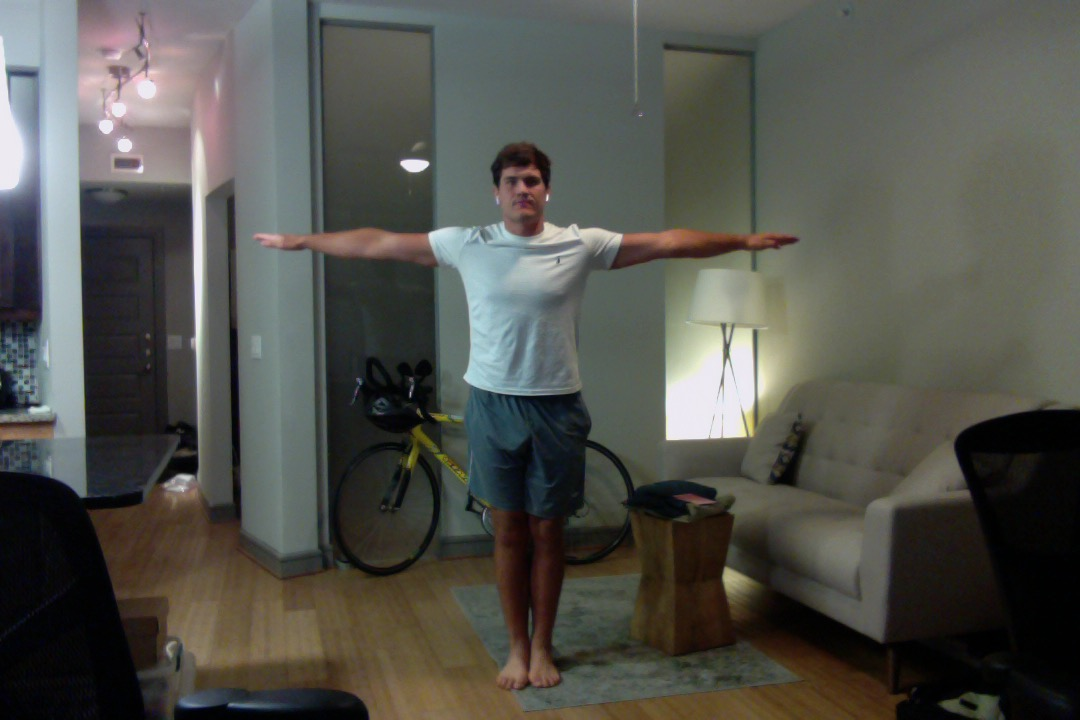T: (245, 138, 808, 695)
